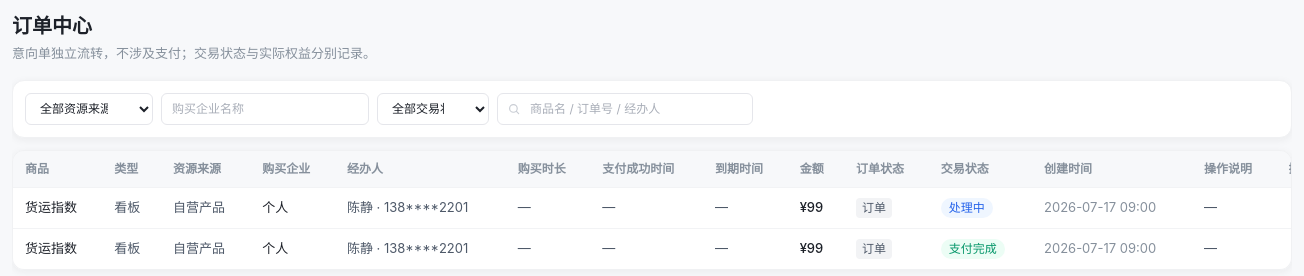
Test case: OrderCenter › shows and filters the actual ops status for pending_approval
Expected: the 2nd row shows "处理中", x1=949 y1=200 x2=985 y2=214
Select "处理中" in the dropdown with test id "filter-status" at {"x": 433, "y": 108}, box x1=377 y1=92 x2=489 y2=124
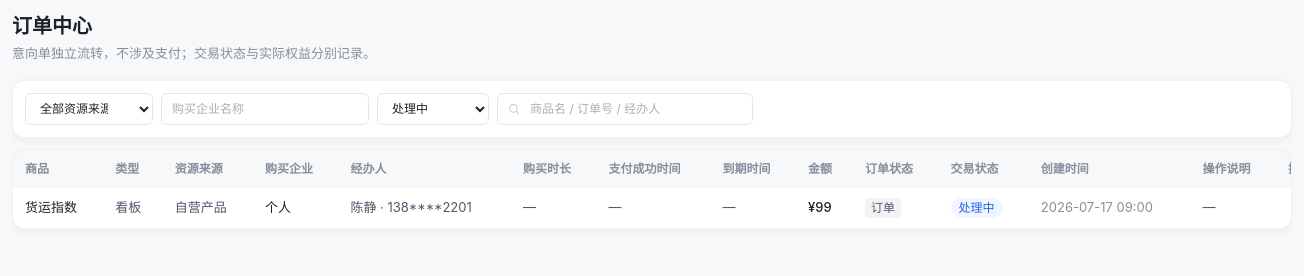
Expected: the number of rows with test id "order-row" is 1, x1=13 y1=187 x2=1292 y2=228
